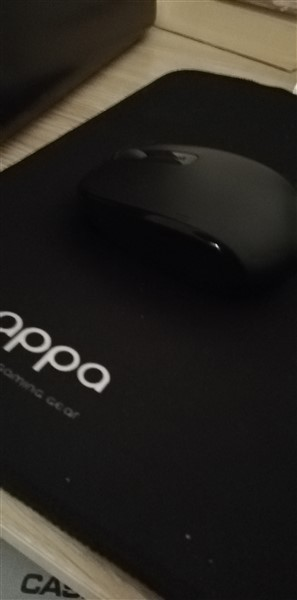mouse: (60, 120, 297, 305)
